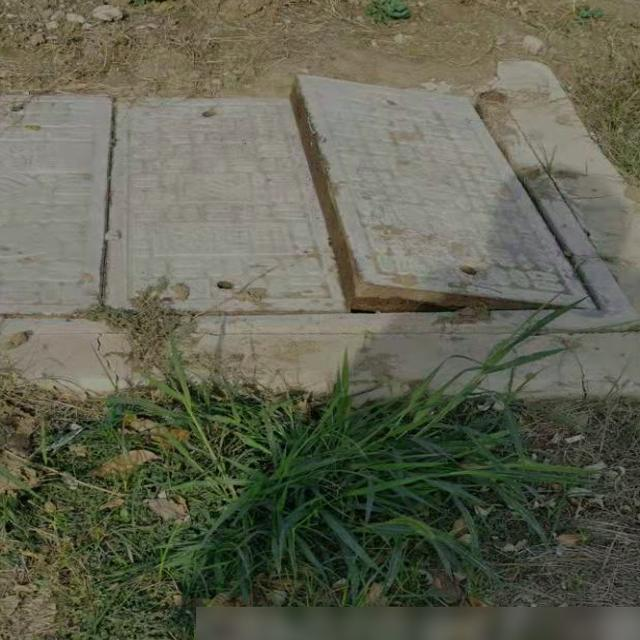uncovered: (280, 69, 539, 315)
